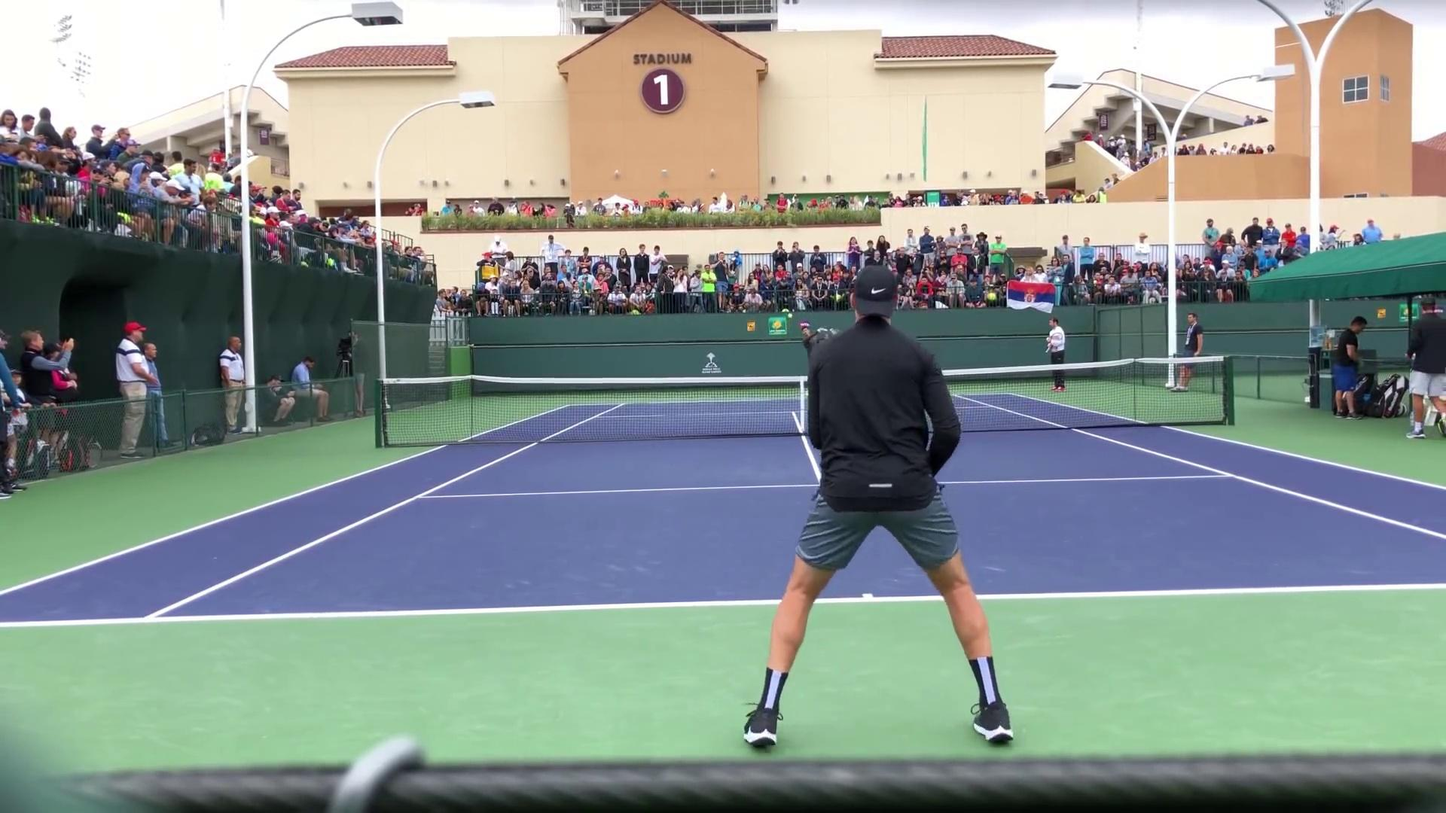ball: (787, 311, 795, 319)
